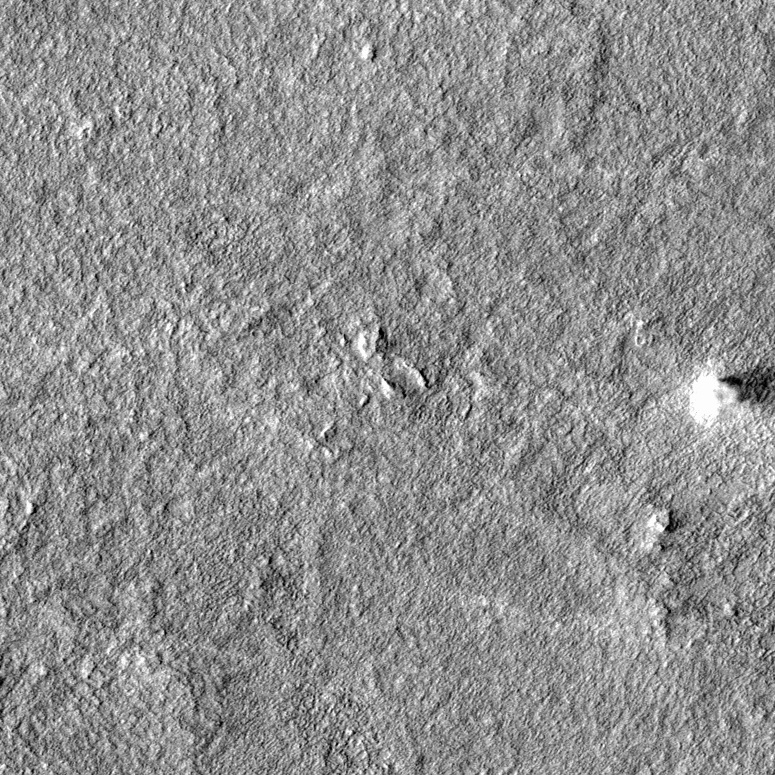dust_devil: (687, 361, 775, 428)
